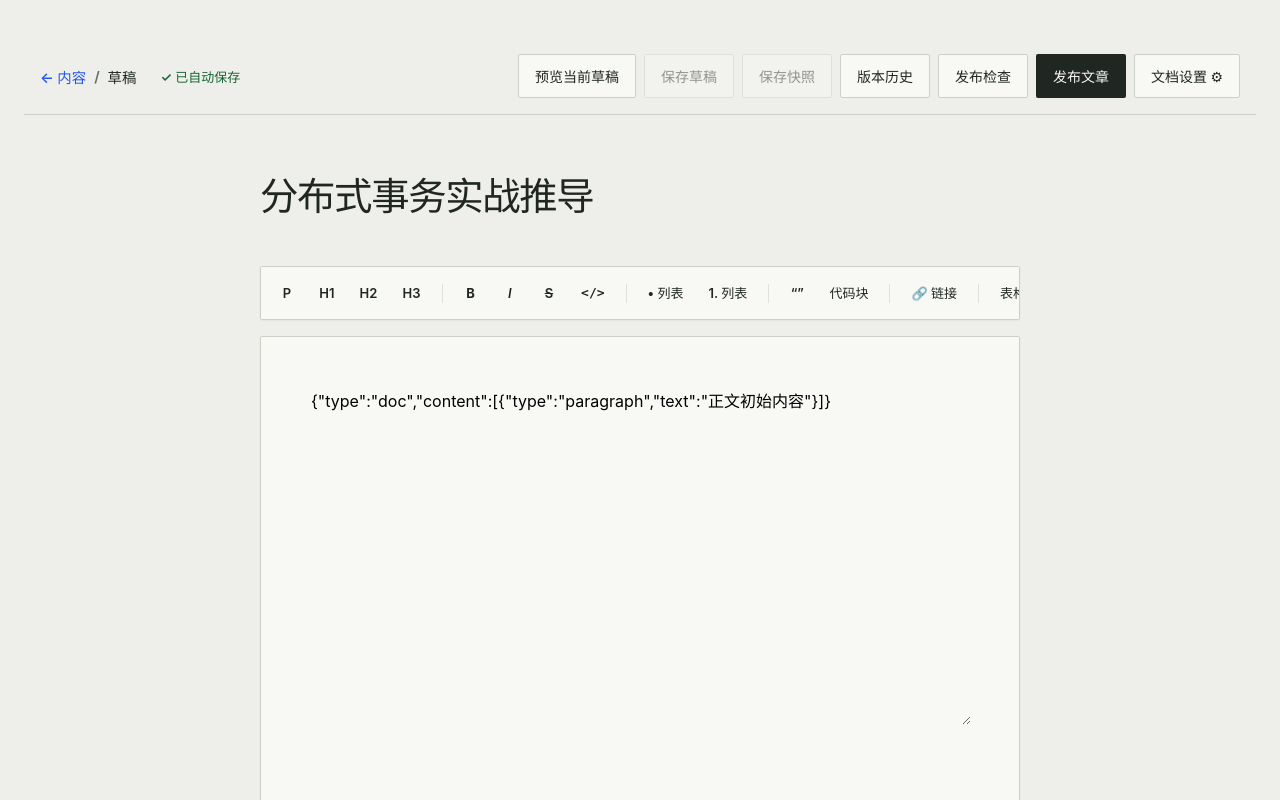
Test case: 知识库体验优化 最终综合验收套件 (6大场景全覆盖) › 场景 4: 发布操作 awaitable 契约与真实状态检查 › 发布失败时返回 false，抽屉严格保持打开并展示具体错误，支持原地重试
Click the button titled "打开发布检查抽屉".
click(983, 76)  # box top-left (938, 54), bottom-right (1028, 98)
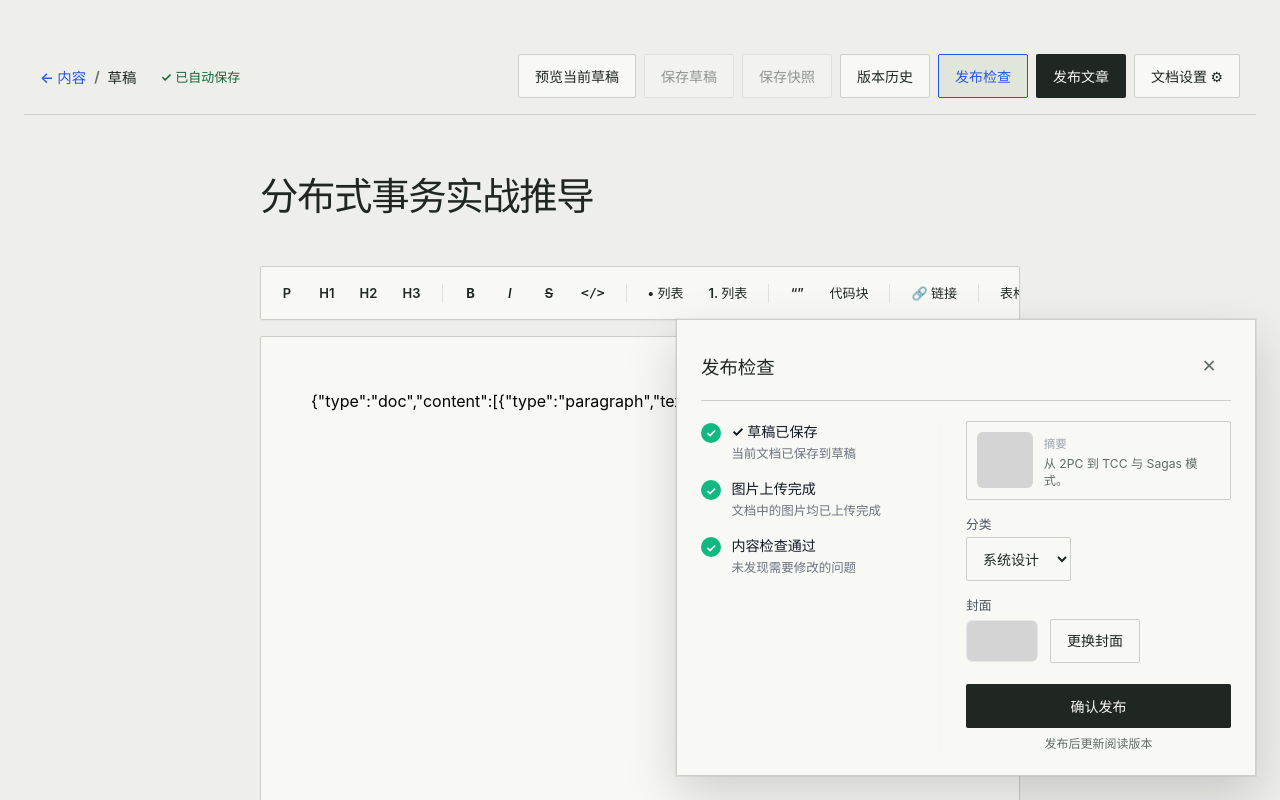
Expected: the dialog "发布检查" is shown, top-left (676, 319), bottom-right (1256, 776)
Click the button "确认发布".
click(1098, 706)  # box top-left (966, 684), bottom-right (1231, 728)
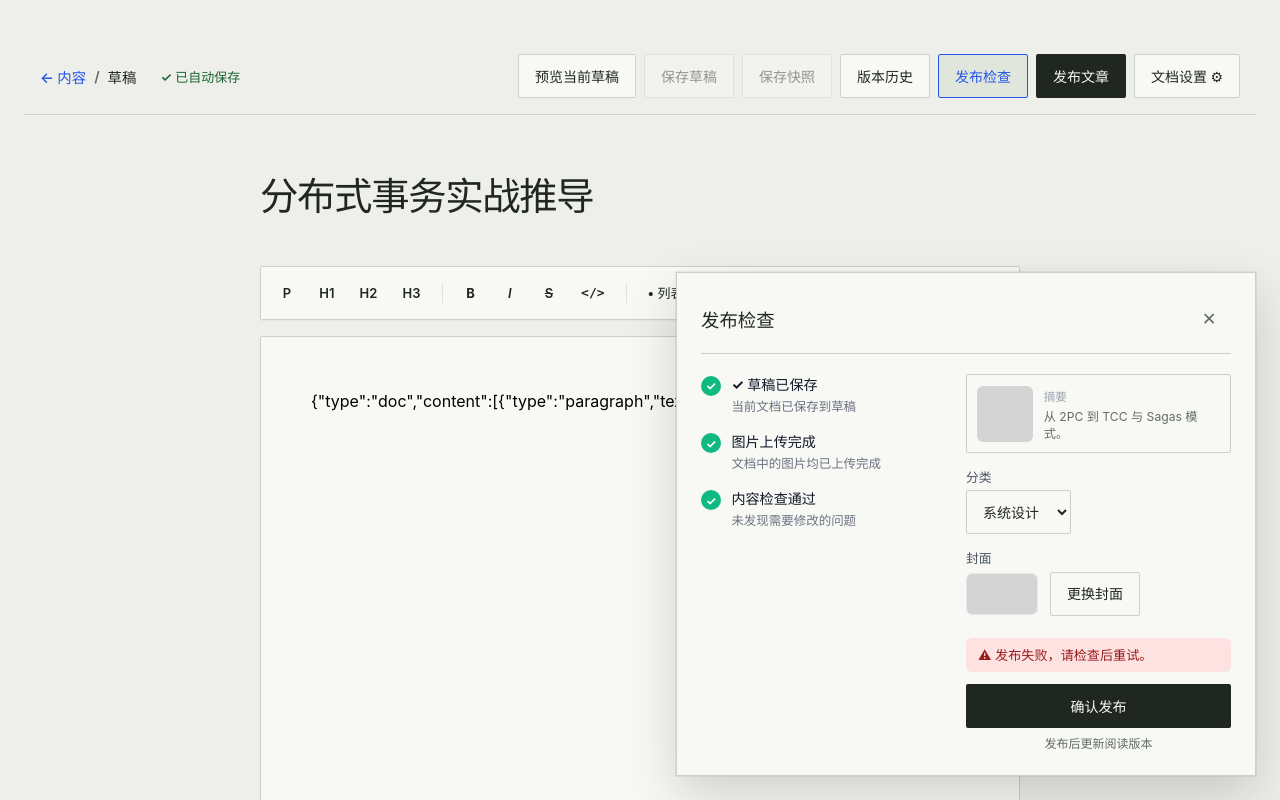
Expected: the dialog "发布检查" is shown, top-left (676, 272), bottom-right (1256, 776)
Expected: the text "⚠ 发布失败，请检查后重试。" is shown, top-left (978, 647), bottom-right (1152, 663)
